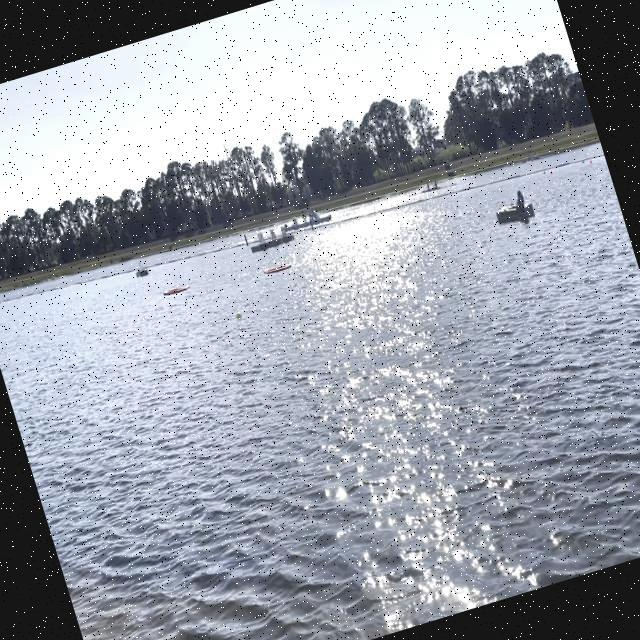buoy: (232, 306, 246, 326)
